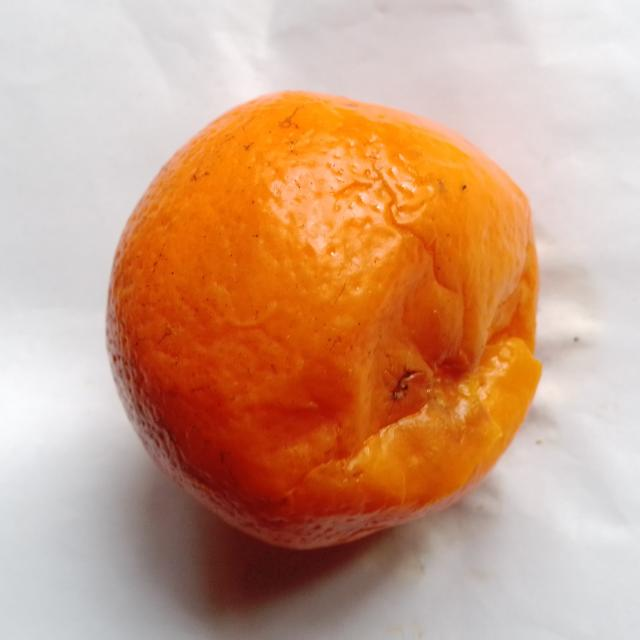orange: (108, 93, 540, 548)
